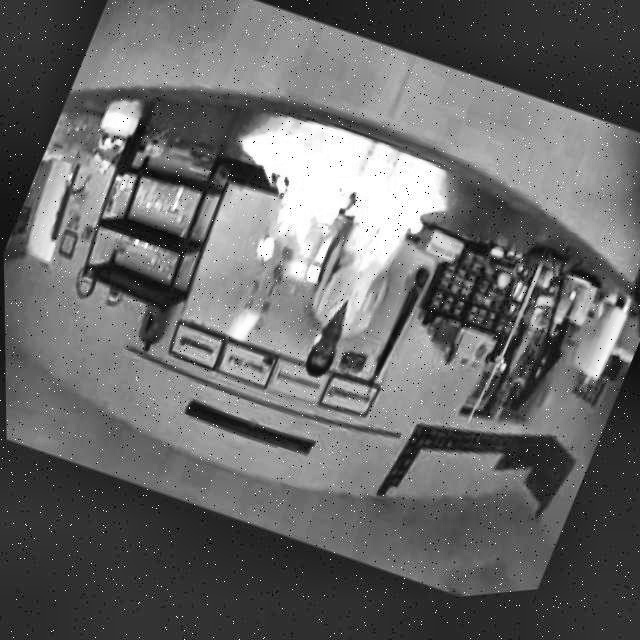Fire: (206, 118, 453, 312)
